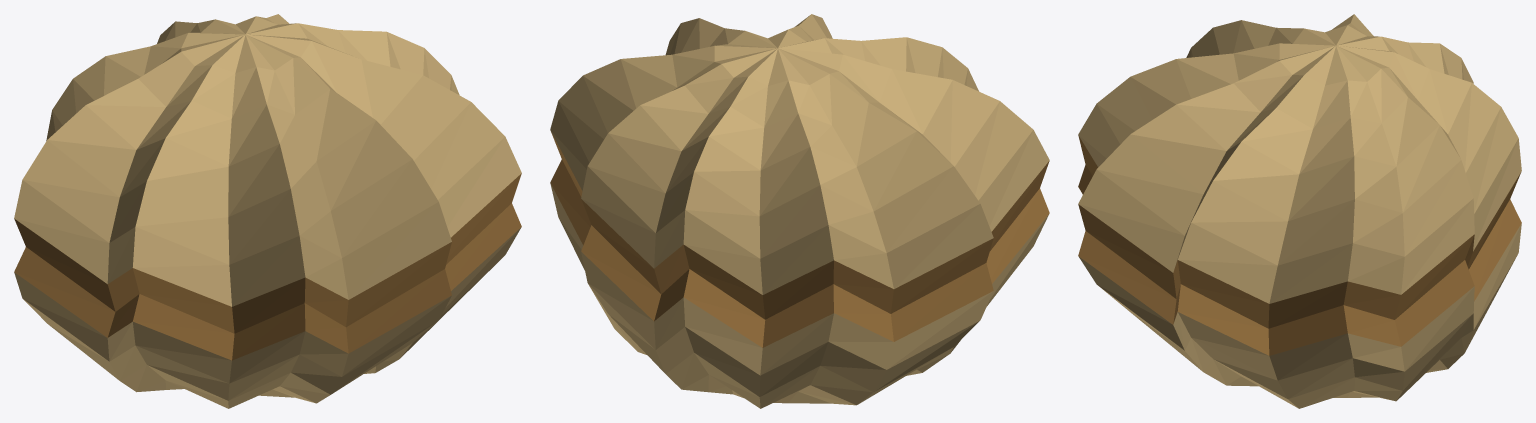
File: clam.glb
3 renders of one model, left to right at view 1: azimuth 30°, elevation 25°; view 2: azimuth 150°, elevation 25°; view 3: azimuth 270°, elevation 25°, orthographic. The views are drawn at different scales.
Parts seen in each view (by area): view 1: valve-top-shell, clam-body; view 2: valve-top-shell, clam-body; view 3: valve-top-shell, clam-body.
Boxes of the visible parts, <box> form: valve-top-shell: <box>14,14,521,333</box>; clam-body: <box>14,203,521,408</box>; valve-top-shell: <box>550,14,1049,319</box>; clam-body: <box>550,159,1049,408</box>; valve-top-shell: <box>1078,14,1521,328</box>; clam-body: <box>1078,165,1521,408</box>.
Bounding box in the file's own units: 0.1654 × 0.1177 × 0.1456.
